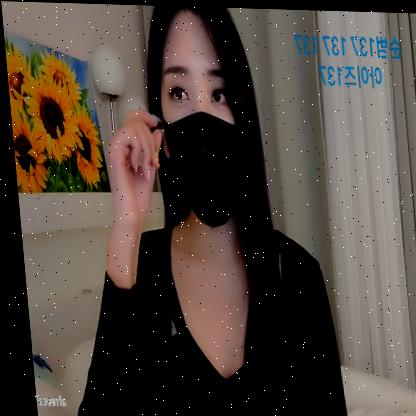streamer: (40, 1, 340, 416)
